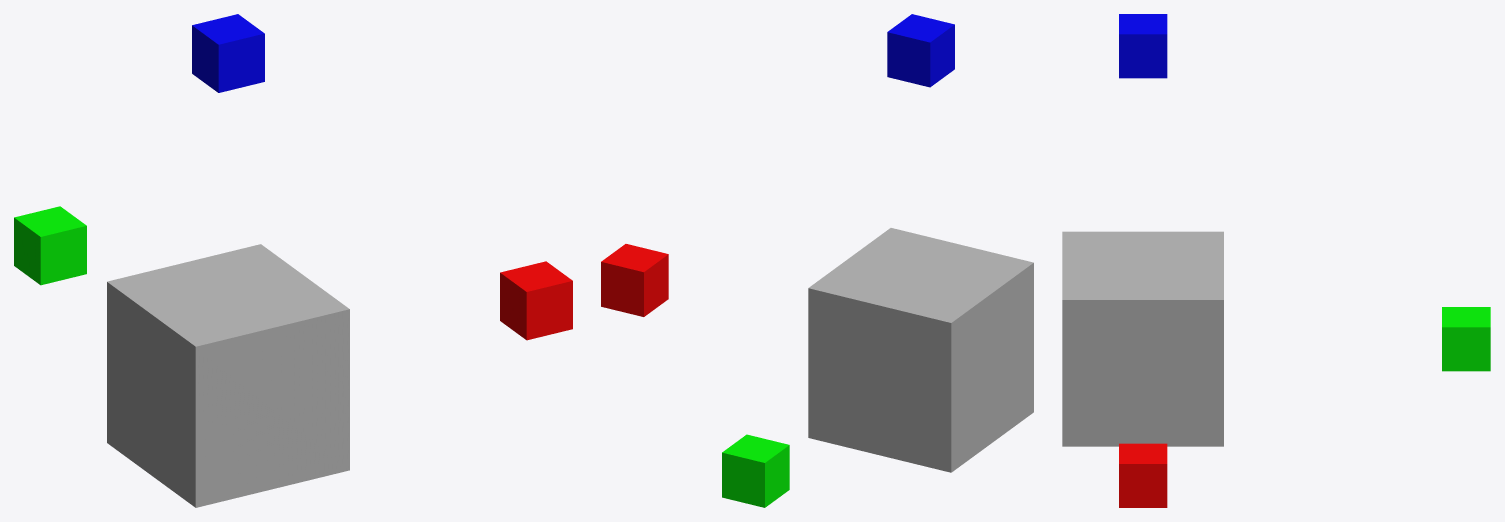
The model's file is FIXTURE_AXES.glb.
3 views of the same model, side by side, from view 1: azimuth 30°, elevation 25°; view 2: azimuth 150°, elevation 25°; view 3: azimuth 270°, elevation 25° (orthographic). The views are drawn at different scales.
Visible parts, largest first — view 1: CUBE_1M, MARK_POS_X, MARK_POS_Y, MARK_POS_Z; view 2: CUBE_1M, MARK_POS_Z, MARK_POS_X, MARK_POS_Y; view 3: CUBE_1M, MARK_POS_Y, MARK_POS_X, MARK_POS_Z.
Boxes of the visible parts, left/top/right/bottom form: CUBE_1M: left=107, top=244, right=349, bottom=507; MARK_POS_X: left=500, top=261, right=572, bottom=340; MARK_POS_Y: left=14, top=206, right=86, bottom=285; MARK_POS_Z: left=192, top=14, right=264, bottom=92; CUBE_1M: left=808, top=228, right=1033, bottom=472; MARK_POS_Z: left=887, top=14, right=954, bottom=87; MARK_POS_X: left=601, top=244, right=668, bottom=316; MARK_POS_Y: left=722, top=434, right=789, bottom=507; CUBE_1M: left=1062, top=231, right=1223, bottom=446; MARK_POS_Y: left=1442, top=307, right=1490, bottom=371; MARK_POS_X: left=1119, top=443, right=1167, bottom=507; MARK_POS_Z: left=1119, top=14, right=1167, bottom=78.
Size of the model in its own units: 2.65 by 2.65 by 2.65.
